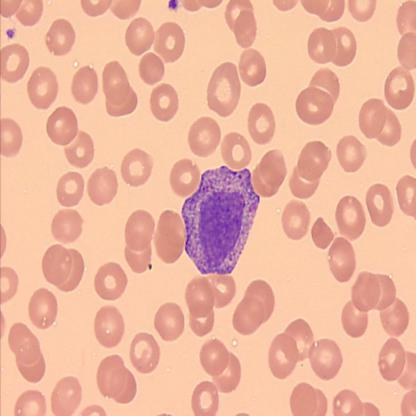Myelocyte: (180, 165, 264, 273)
